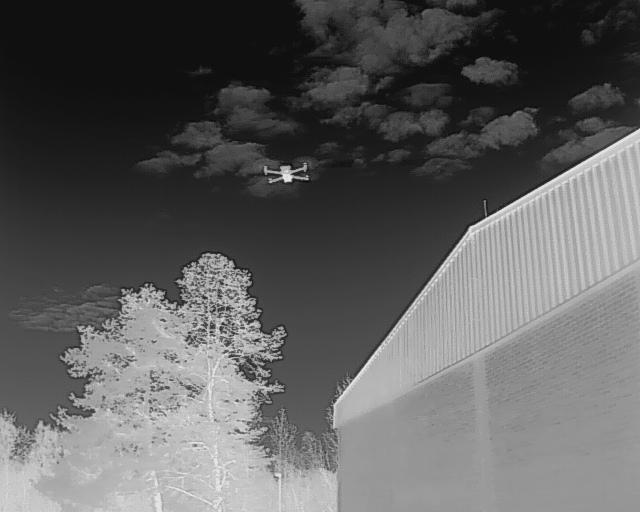drone: (260, 160, 317, 196)
